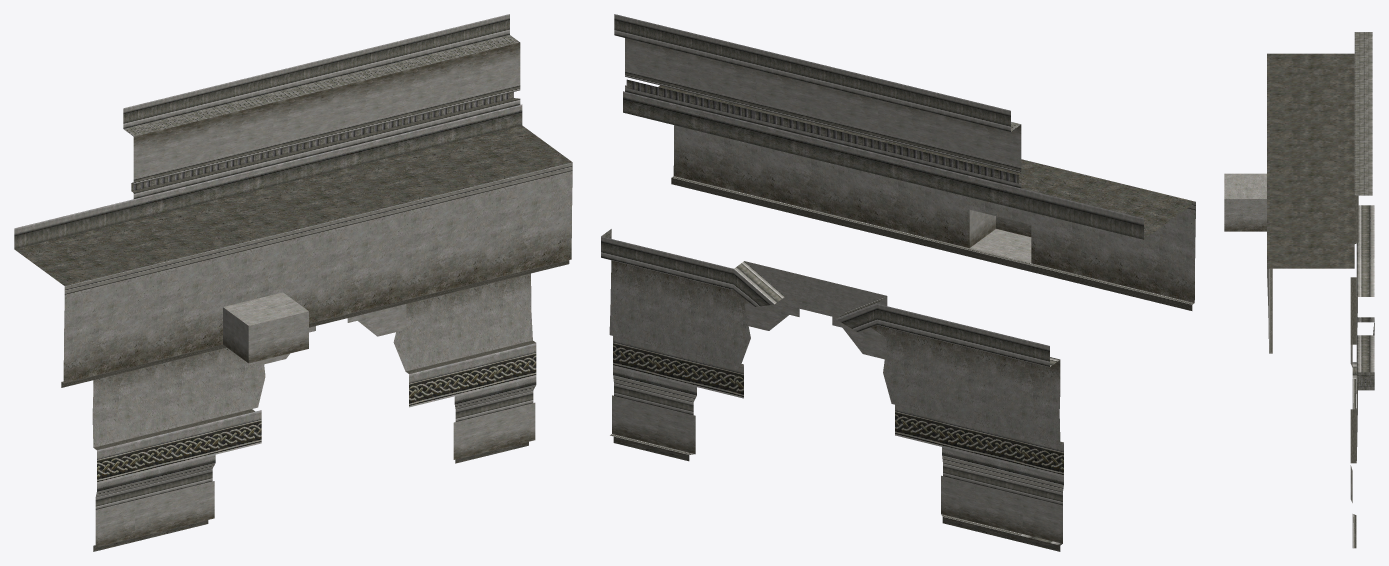
The model's file is DWARF_PALACE_MAINHALL_WALL01A.fbx.
3 views of the same model, side by side, from view 1: azimuth 30°, elevation 25°; view 2: azimuth 150°, elevation 25°; view 3: azimuth 270°, elevation 25° (orthographic). The views are drawn at different scales.
Parts seen in each view (by area): view 1: DWARF_PALACE_MAINHALL_WALL01A; view 2: DWARF_PALACE_MAINHALL_WALL01A; view 3: DWARF_PALACE_MAINHALL_WALL01A.
Part boxes in pixels (x1=…): DWARF_PALACE_MAINHALL_WALL01A: x1=14, y1=14, x2=572, y2=551; DWARF_PALACE_MAINHALL_WALL01A: x1=601, y1=14, x2=1195, y2=551; DWARF_PALACE_MAINHALL_WALL01A: x1=1224, y1=32, x2=1374, y2=548.
Size of the model in its own units: 260999 by 205000 by 75469.
Materials: 10 (10 with a texture image).
